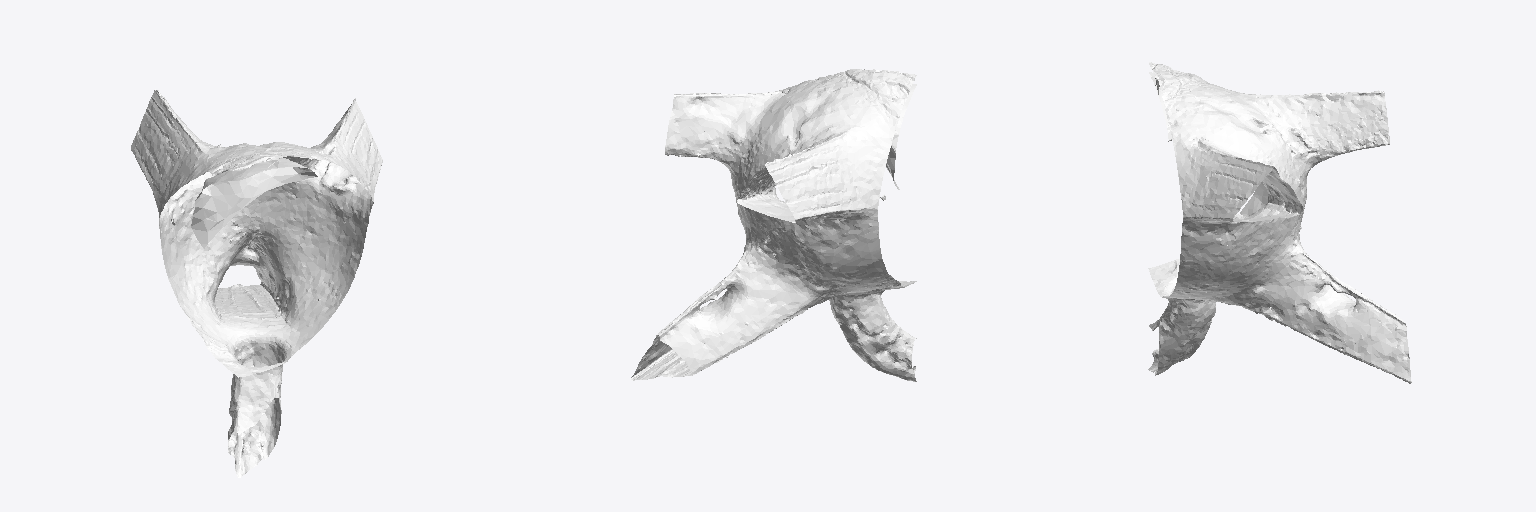
The model's file is tile_1_1.obj.
The picture shows the model from 3 angles: view 1: azimuth 30°, elevation 25°; view 2: azimuth 150°, elevation 25°; view 3: azimuth 270°, elevation 25°; orthographic projection.
Parts seen in each view (by area): view 1: texture_0; view 2: texture_0; view 3: texture_0.
Boxes of the visible parts, x1=… form: texture_0: x1=131, y1=89, x2=382, y2=477; texture_0: x1=631, y1=69, x2=916, y2=381; texture_0: x1=1148, y1=62, x2=1411, y2=383.
Bounding box in the file's own units: 0.1442 × 0.2052 × 0.1589.